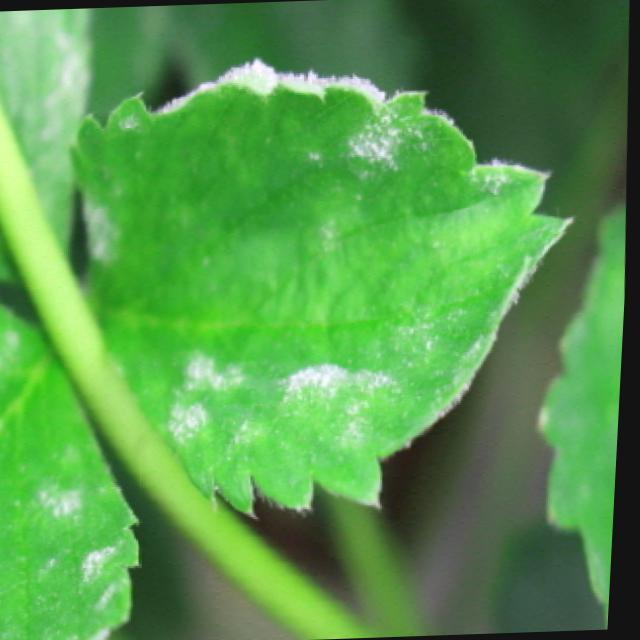Powdery Mildew Leaf: (73, 58, 583, 514), (0, 293, 149, 640), (0, 8, 93, 290)
